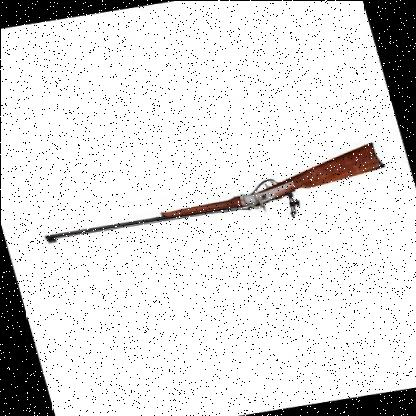rifle: (26, 136, 398, 256)
